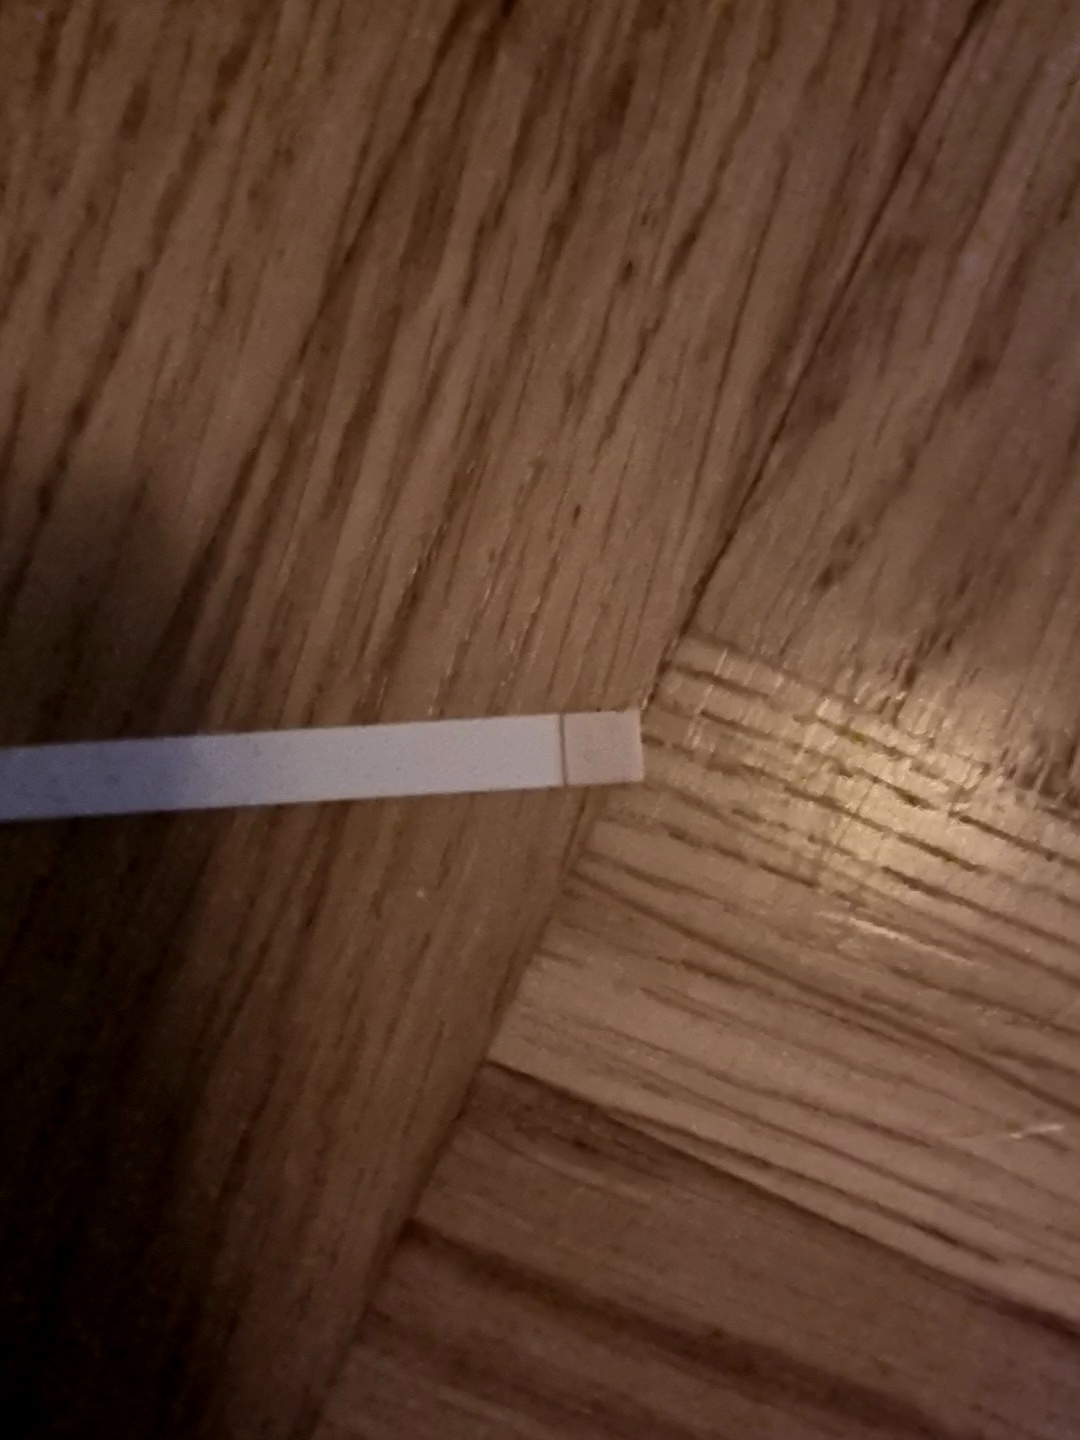keto-tip: (552, 704, 651, 788)
